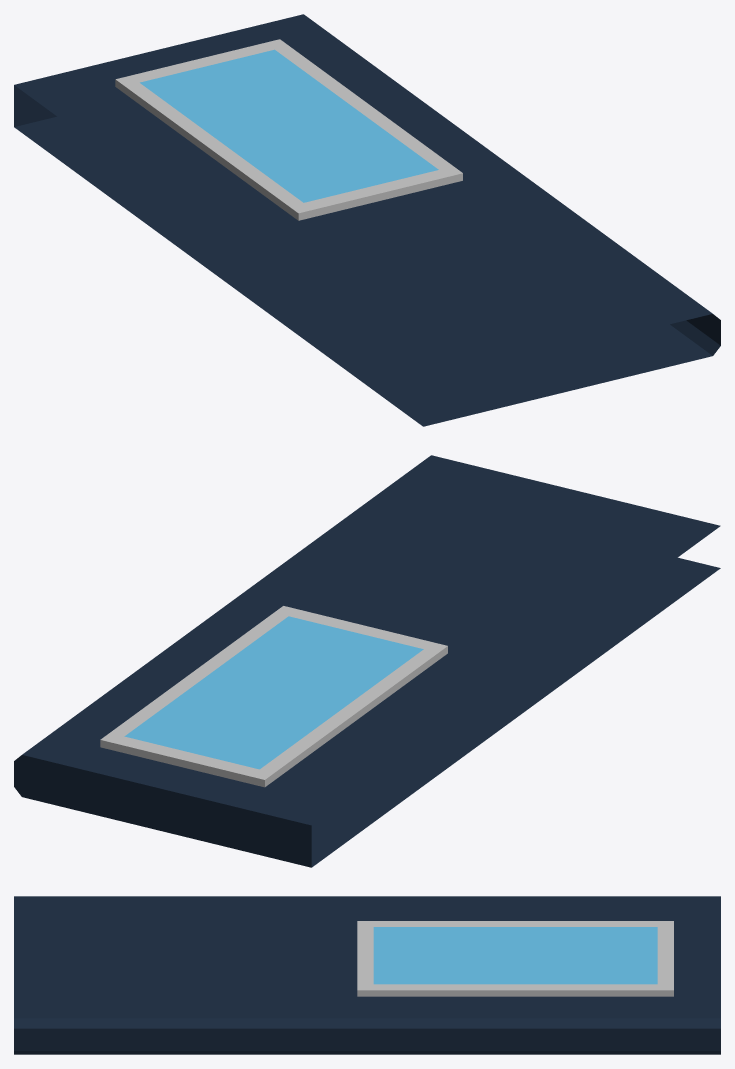
The model's file is Door 01 Blue.FBX.
3 renders of one model, top to bottom at view 1: azimuth 30°, elevation 25°; view 2: azimuth 150°, elevation 25°; view 3: azimuth 270°, elevation 25°, orthographic. The views are drawn at different scales.
Visible parts, largest first — view 1: Door 01 Blue; view 2: Door 01 Blue; view 3: Door 01 Blue.
Boxes of the visible parts, box(x1,y1,x2,y2) form: Door 01 Blue: box(14, 14, 720, 426); Door 01 Blue: box(14, 455, 720, 867); Door 01 Blue: box(14, 896, 720, 1054).
Bounding box in the file's own units: 91.33 × 17.15 × 218.
Materials: 1 (1 with a texture image).
